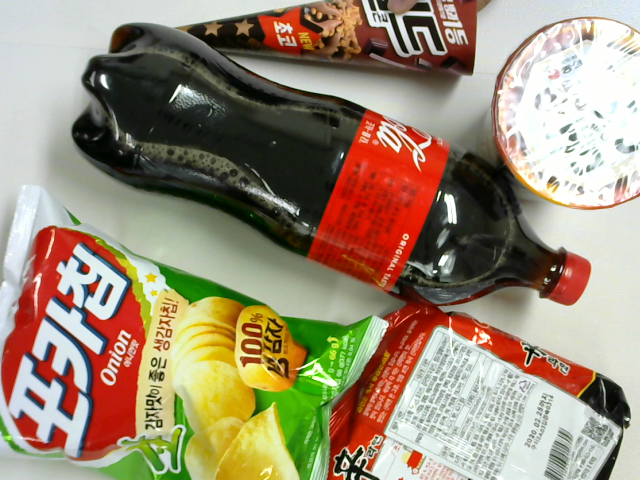Coca_Cola_1.5L: (72, 25, 587, 307)
Ojjam: (486, 19, 640, 210)
Pocachip_Onion: (1, 191, 369, 479)
Sinramen: (332, 307, 626, 480)
World_Cone_Choco: (178, 1, 478, 78)
